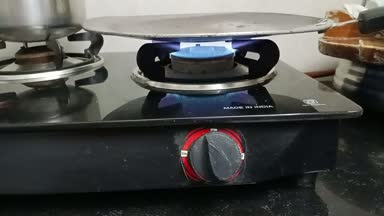flame_gas_on: (131, 37, 292, 187)
